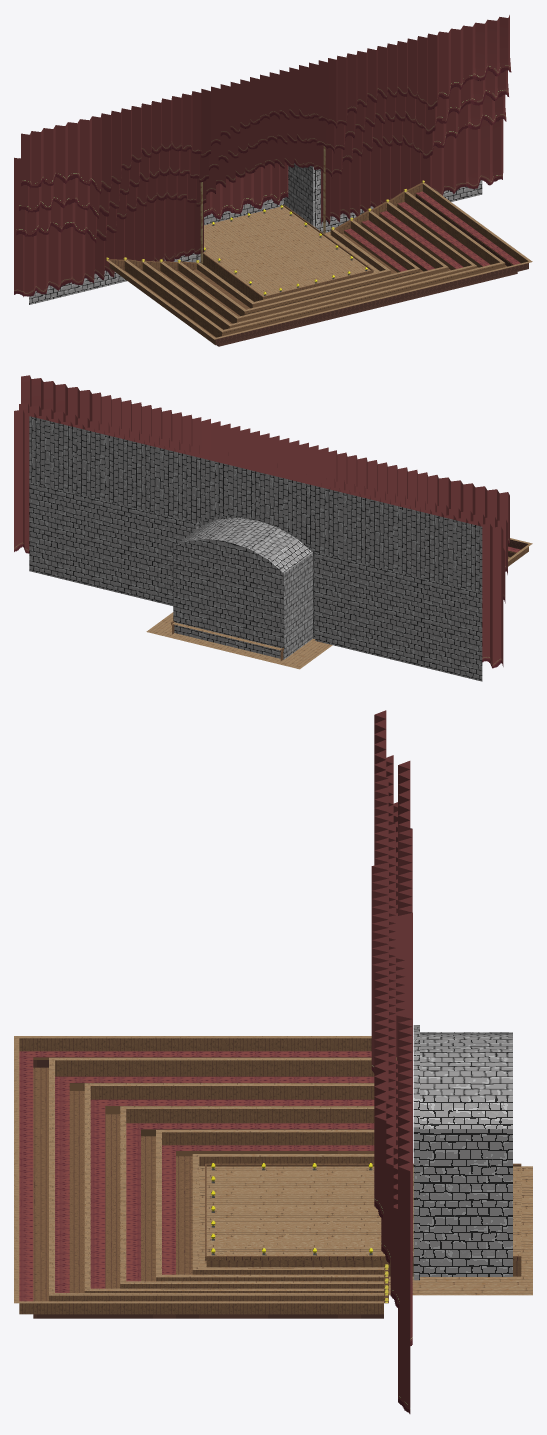
The model's file is Ceanrio.glb.
3 renders of one model, top to bottom at view 1: azimuth 30°, elevation 25°; view 2: azimuth 150°, elevation 25°; view 3: azimuth 270°, elevation 25°, orthographic. The views are drawn at different scales.
Parts seen in each view (by area): view 1: Curtinas, Cadeiras, Palco, Parede, Codas; view 2: Parede, Curtinas, Piso, Cadeiras, Palco; view 3: Cadeiras, Parede, Curtinas, Palco, Piso.
Boxes of the visible parts, left/top/right/bottom form: Curtinas: left=14, top=15, right=511, bottom=296; Cadeiras: left=106, top=180, right=532, bottom=346; Palco: left=202, top=205, right=373, bottom=301; Parede: left=29, top=163, right=482, bottom=304; Codas: left=200, top=146, right=325, bottom=263; Parede: left=29, top=416, right=482, bottom=681; Curtinas: left=14, top=375, right=509, bottom=668; Piso: left=146, top=612, right=332, bottom=669; Cadeiras: left=508, top=538, right=532, bottom=566; Palco: left=171, top=621, right=283, bottom=660; Cadeiras: left=14, top=1036, right=388, bottom=1318; Parede: left=413, top=1025, right=512, bottom=1280; Curtinas: left=371, top=710, right=412, bottom=1413; Palco: left=205, top=1163, right=521, bottom=1276; Piso: left=199, top=1166, right=532, bottom=1295.
Bounding box in the file's own units: 43.84 × 15.76 × 23.41.
Materials: 8 (8 with a texture image).
